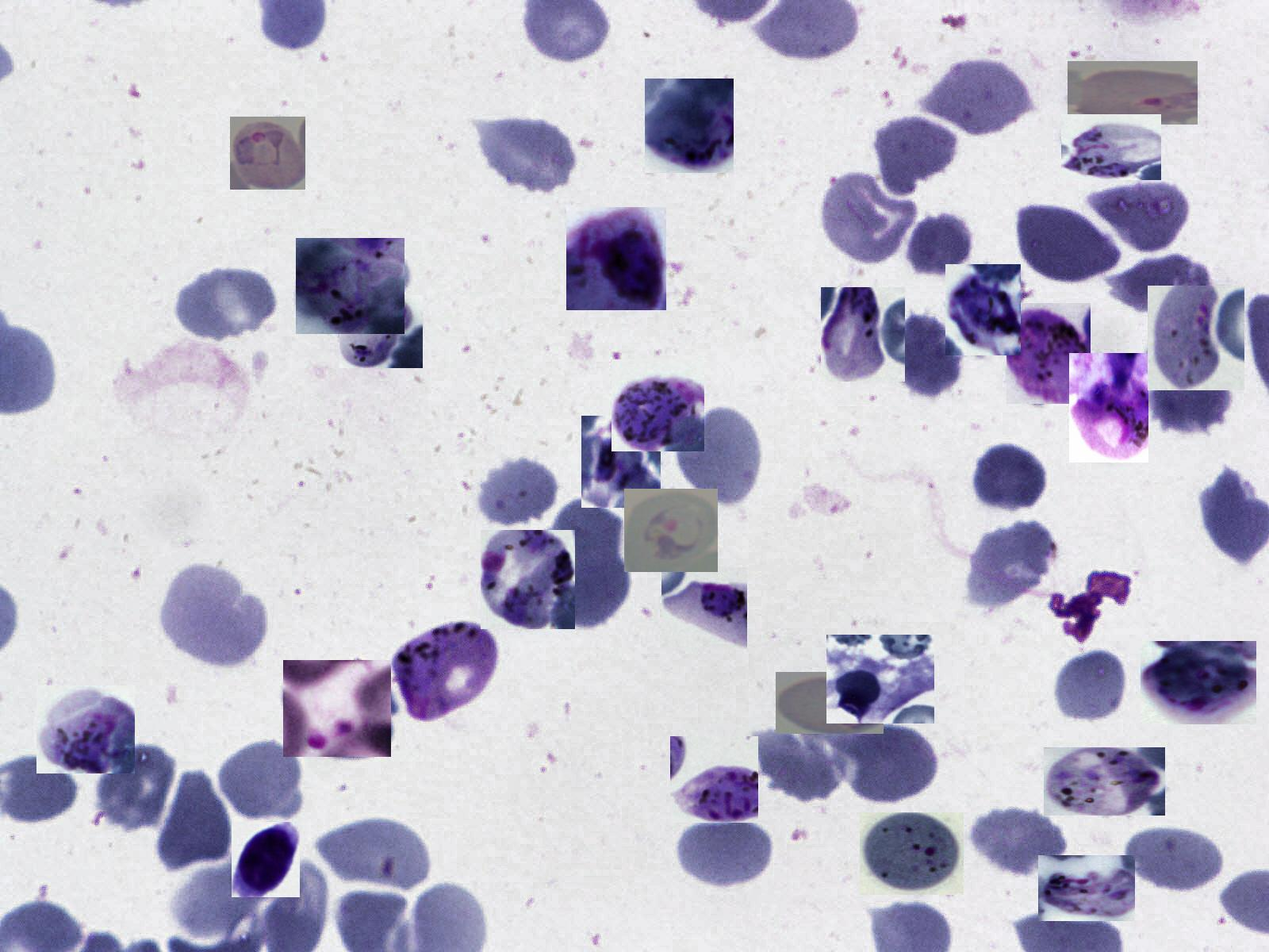Infected: (391, 620, 500, 720), (283, 660, 391, 757), (296, 238, 404, 334), (566, 207, 666, 310), (1148, 286, 1244, 390), (826, 635, 934, 724), (1141, 641, 1256, 724), (481, 530, 575, 629), (36, 685, 135, 774), (1069, 353, 1148, 463), (860, 812, 964, 895), (1006, 303, 1091, 404), (611, 359, 704, 451), (645, 79, 734, 173), (1044, 747, 1165, 816), (1068, 61, 1198, 125), (821, 287, 905, 382), (624, 489, 718, 573), (670, 736, 758, 823), (581, 416, 661, 508), (661, 567, 747, 649), (945, 264, 1021, 355), (776, 672, 884, 734), (1061, 114, 1161, 180), (1038, 855, 1135, 921), (339, 295, 423, 368), (230, 117, 305, 190), (232, 822, 300, 897)
Uninfected: (160, 561, 264, 671), (916, 60, 1040, 140), (1012, 197, 1122, 285), (818, 170, 918, 266), (677, 403, 765, 511), (316, 817, 435, 896), (549, 525, 634, 632), (830, 721, 939, 804), (964, 518, 1057, 612), (475, 113, 578, 197), (173, 263, 278, 345), (1086, 175, 1190, 255), (673, 816, 776, 892), (94, 739, 179, 831), (216, 738, 307, 823), (157, 770, 232, 869), (757, 728, 846, 808), (473, 451, 562, 530), (873, 113, 957, 196), (968, 805, 1064, 877), (1123, 827, 1225, 894), (889, 309, 964, 400), (1054, 647, 1129, 726), (972, 440, 1051, 515), (1109, 254, 1210, 312), (1148, 369, 1233, 433), (903, 209, 976, 282)
